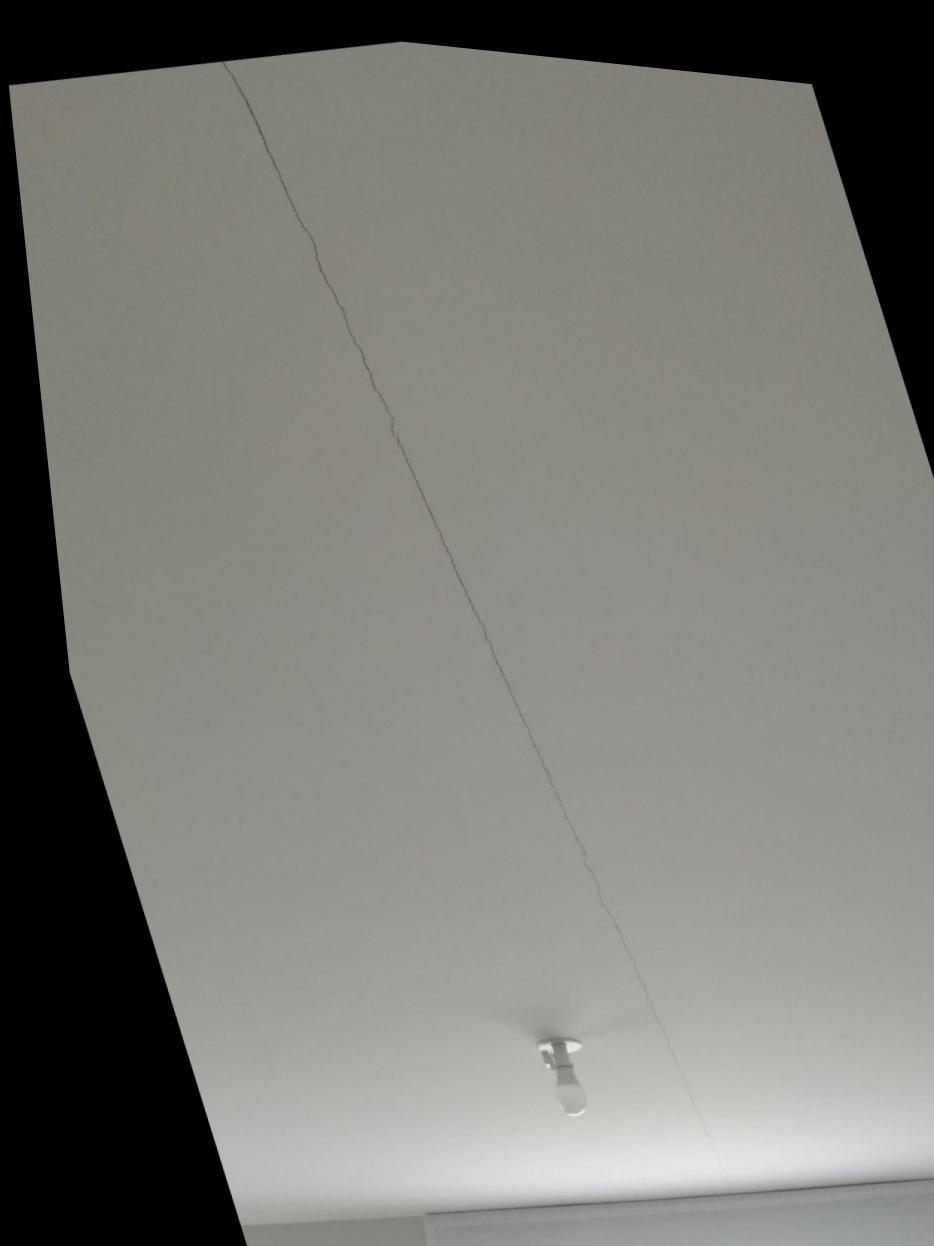crack: (222, 57, 702, 1165)
